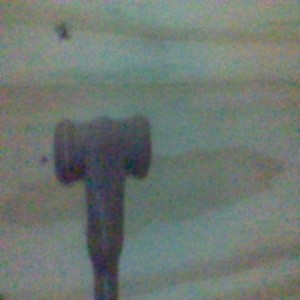palu: (53, 113, 152, 300)
